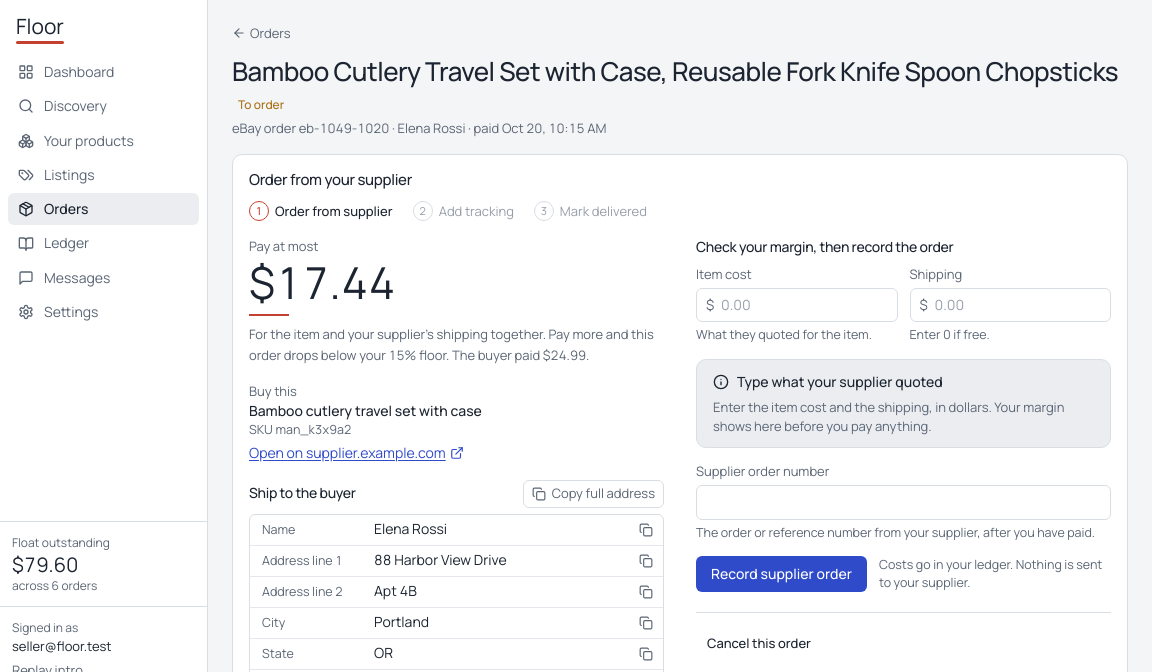
Order from your supplier › shows enough decimals that a margin just under the floor never reads as the floor
The width and height of the screenshot is (1152, 672).
Expected: the heading "Order from your supplier" is shown, [249,169,412,191]
Type "17.45" into the field labelled "Item cost" at (797, 305), box [696,288,898,322]
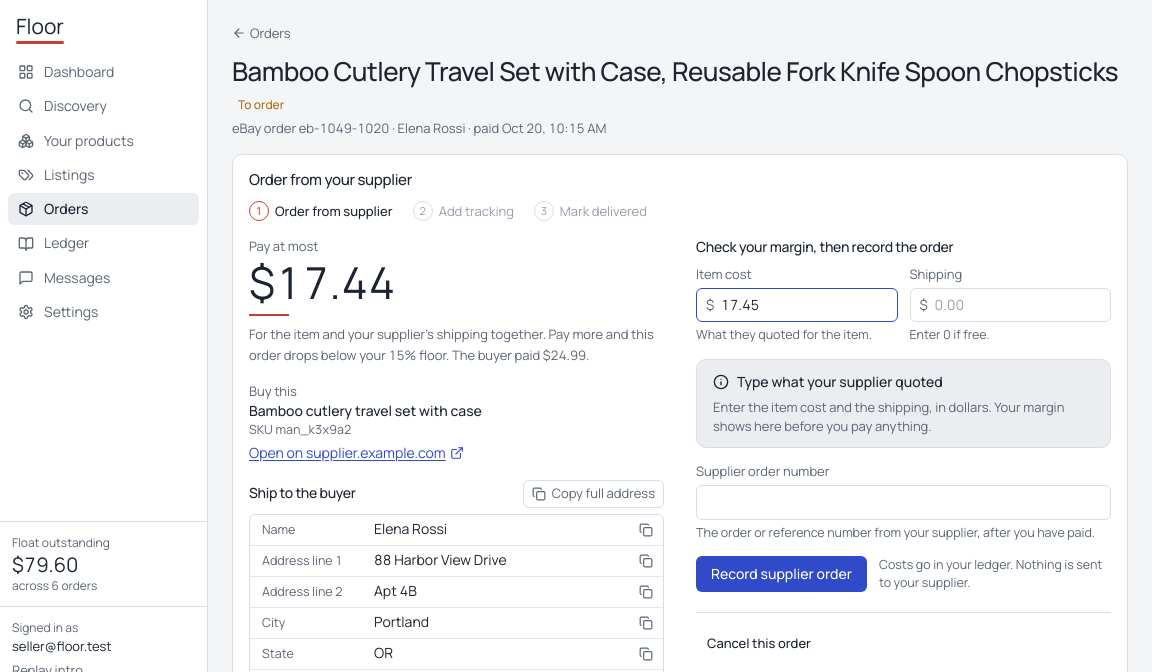
Type "0" into the field labelled "Shipping" at (1010, 305), box [910,288,1111,322]
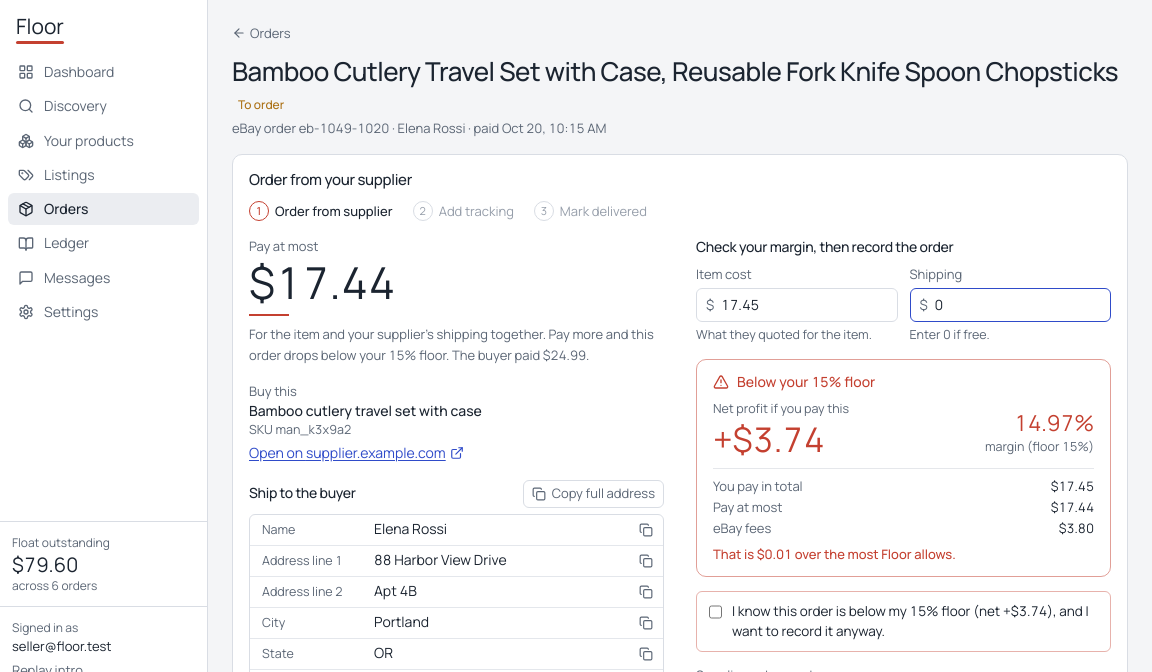
Now the text "Below your 15% floor" is shown, box [737,372,875,392]
Now the text "14.97%" is shown, box [1014,408,1094,438]
